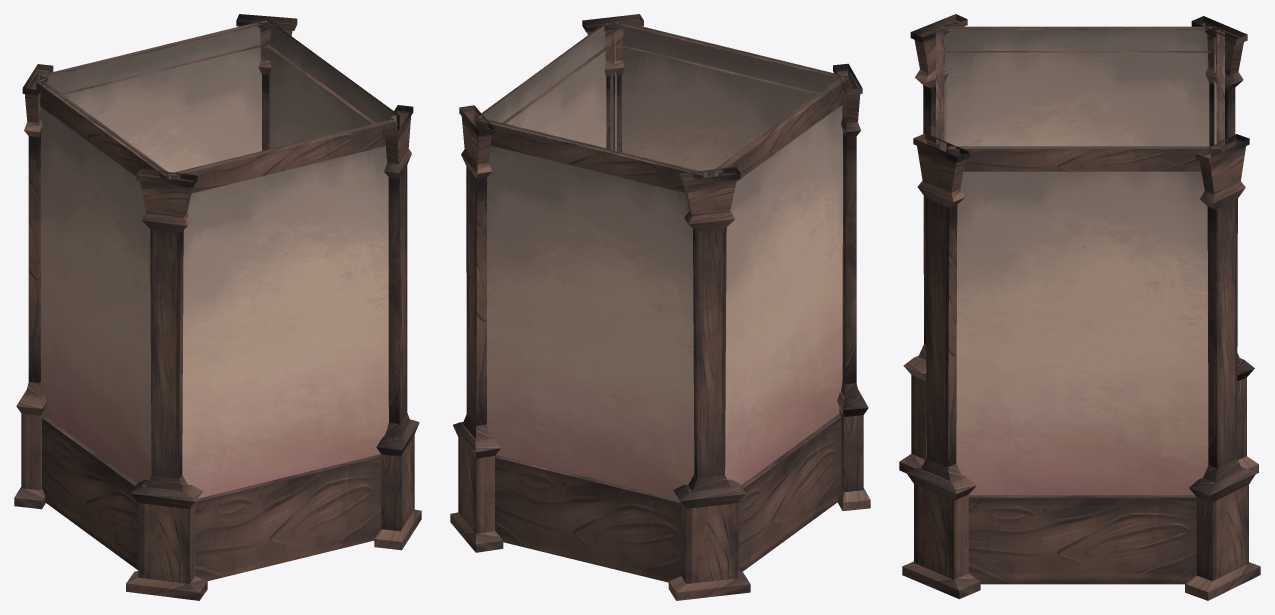
The model's file is Wall_Full_Pillar_LOD1.fbx.
3 renders of one model, left to right at view 1: azimuth 30°, elevation 25°; view 2: azimuth 150°, elevation 25°; view 3: azimuth 270°, elevation 25°, orthographic. The views are drawn at different scales.
Visible parts, largest first — view 1: Pillar_Full_LOD1; view 2: Pillar_Full_LOD1; view 3: Pillar_Full_LOD1.
Part boxes in pixels (x1,y1,x2,y2): Pillar_Full_LOD1: [14, 14, 421, 600]; Pillar_Full_LOD1: [450, 14, 870, 600]; Pillar_Full_LOD1: [899, 14, 1260, 600].
Bounding box in the file's own units: 0.0319 × 0.0422 × 0.0316.
